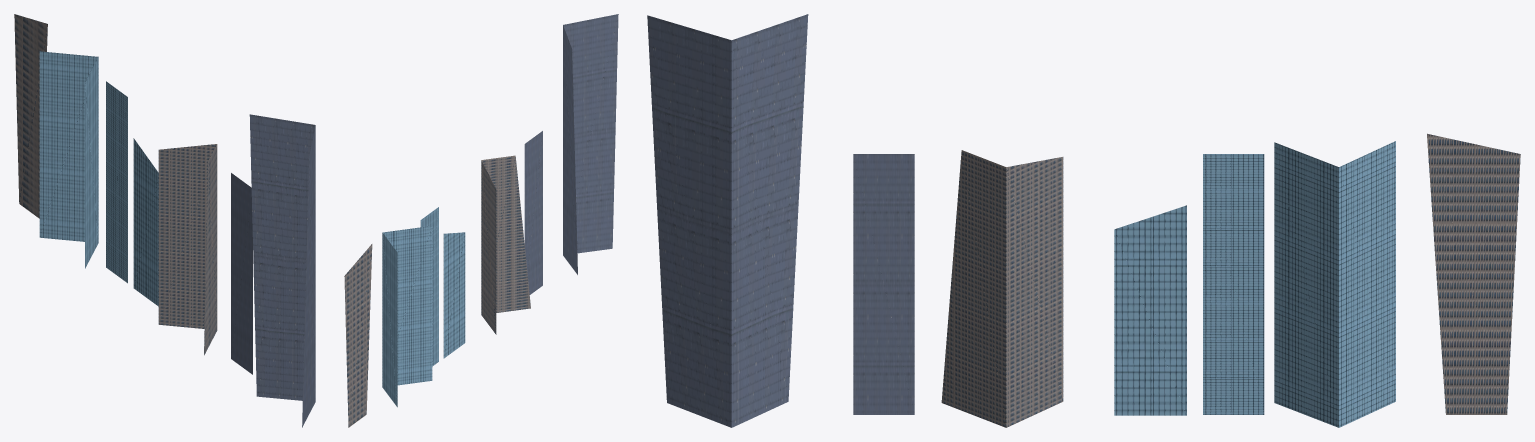
The model's file is BuildingBackdrops.fbx.
3 views of the same model, side by side, from view 1: azimuth 30°, elevation 25°; view 2: azimuth 150°, elevation 25°; view 3: azimuth 270°, elevation 25° (orthographic). The views are drawn at different scales.
Parts seen in each view (by area): view 1: BuildingBackdrop7, BuildingBackdrop2, BuildingBackdrop4, BuildingBackdrop5, BuildingBackdrop, BuildingBackdrop6, BuildingBackdrop1; view 2: BuildingBackdrop7, BuildingBackdrop2, BuildingBackdrop4, BuildingBackdrop5, BuildingBackdrop6, BuildingBackdrop1, BuildingBackdrop; view 3: BuildingBackdrop7, BuildingBackdrop2, BuildingBackdrop4, BuildingBackdrop5, BuildingBackdrop, BuildingBackdrop6, BuildingBackdrop1.
Boxes of the visible parts, bbox=[...] form: BuildingBackdrop7: bbox=[249, 114, 315, 427]; BuildingBackdrop2: bbox=[39, 51, 98, 268]; BuildingBackdrop4: bbox=[158, 144, 217, 355]; BuildingBackdrop5: bbox=[14, 14, 47, 218]; BuildingBackdrop: bbox=[106, 81, 127, 283]; BuildingBackdrop6: bbox=[231, 173, 252, 374]; BuildingBackdrop1: bbox=[133, 138, 158, 306]; BuildingBackdrop7: bbox=[563, 14, 618, 274]; BuildingBackdrop2: bbox=[382, 226, 432, 407]; BuildingBackdrop4: bbox=[481, 155, 530, 334]; BuildingBackdrop5: bbox=[344, 244, 372, 427]; BuildingBackdrop6: bbox=[524, 131, 542, 294]; BuildingBackdrop1: bbox=[443, 232, 465, 358]; BuildingBackdrop: bbox=[420, 207, 438, 366]; BuildingBackdrop7: bbox=[647, 14, 808, 427]; BuildingBackdrop2: bbox=[1274, 141, 1395, 427]; BuildingBackdrop4: bbox=[941, 150, 1063, 427]; BuildingBackdrop5: bbox=[1427, 133, 1520, 414]; BuildingBackdrop: bbox=[1203, 154, 1264, 414]; BuildingBackdrop6: bbox=[853, 154, 914, 414]; BuildingBackdrop1: bbox=[1114, 205, 1186, 415].
Size of the model in its own units: 171 by 2408 by 1182.
